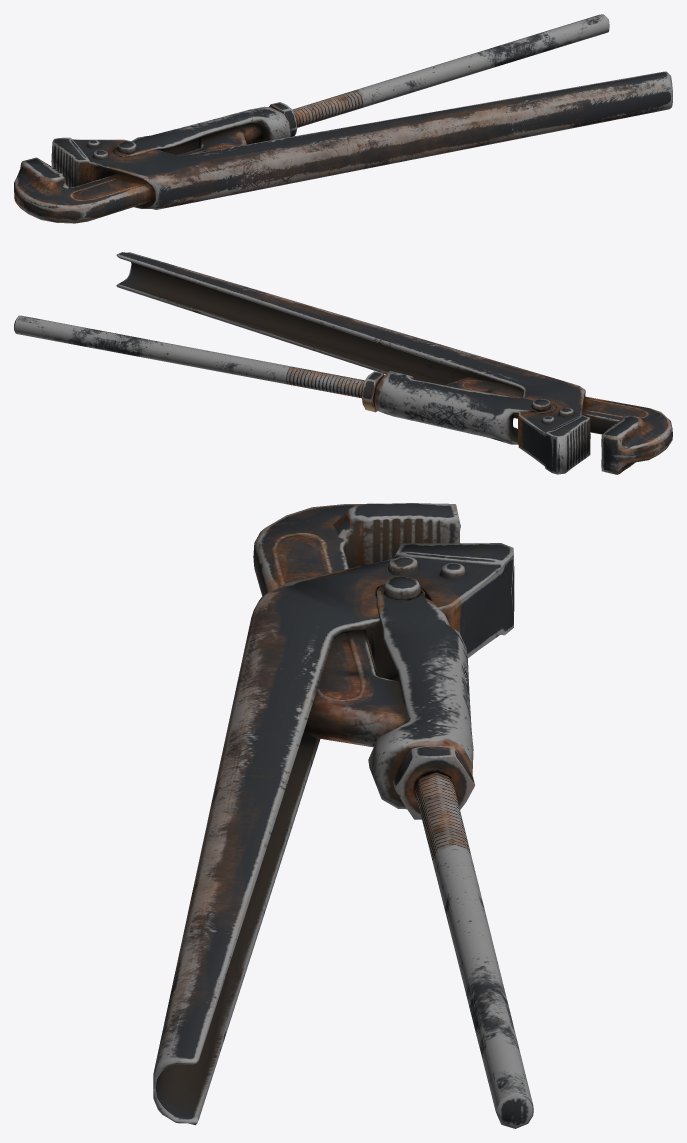
File: wrench1.obj
3 renders of one model, top to bottom at view 1: azimuth 30°, elevation 25°; view 2: azimuth 150°, elevation 25°; view 3: azimuth 270°, elevation 25°, orthographic. The views are drawn at different scales.
Parts seen in each view (by area): view 1: pipe_wrench1, pipe_wrench3, pipe_wrench2, pipe_wrench4; view 2: pipe_wrench1, pipe_wrench3, pipe_wrench2, pipe_wrench4; view 3: pipe_wrench1, pipe_wrench3, pipe_wrench2, pipe_wrench4.
Part boxes in pixels (left/top/right/bottom): pipe_wrench1: left=51, top=71, right=672, bottom=209; pipe_wrench3: left=14, top=14, right=609, bottom=223; pipe_wrench2: left=113, top=106, right=290, bottom=157; pipe_wrench4: left=269, top=102, right=297, bottom=136; pipe_wrench1: left=116, top=252, right=590, bottom=474; pipe_wrench3: left=14, top=315, right=672, bottom=474; pipe_wrench2: left=374, top=371, right=555, bottom=444; pipe_wrench4: left=362, top=371, right=384, bottom=412; pipe_wrench1: left=153, top=543, right=514, bottom=1125; pipe_wrench3: left=253, top=503, right=533, bottom=1128; pipe_wrench2: left=368, top=584, right=473, bottom=809; pipe_wrench4: left=392, top=745, right=474, bottom=819.
Size of the model in its own units: 1.54 by 0.1119 by 0.4169.
4 materials, 4 textured.
